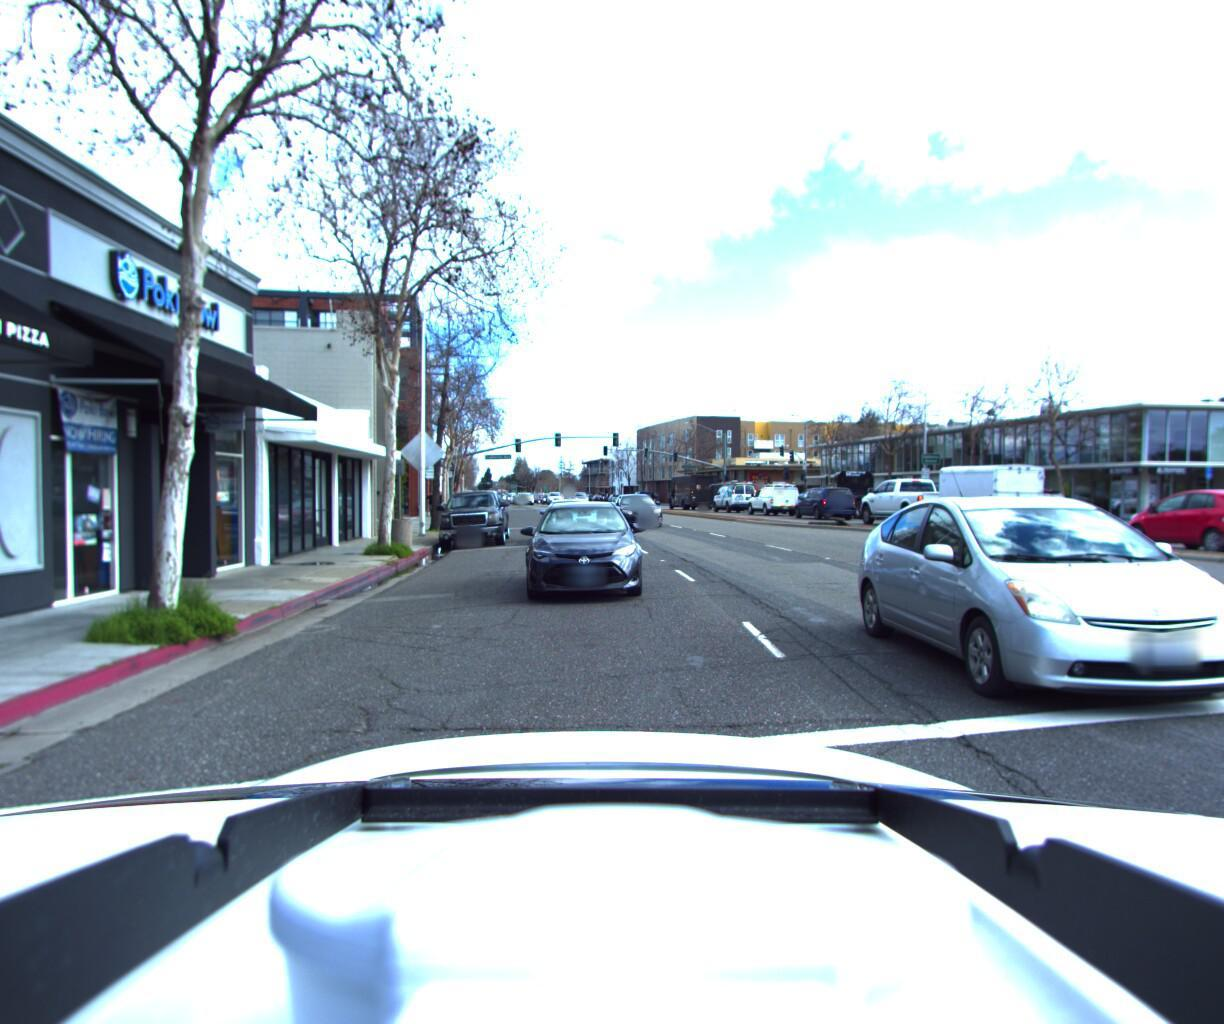car: (861, 489, 1224, 771), (518, 500, 642, 613), (1111, 489, 1224, 560), (850, 478, 969, 534), (976, 488, 1090, 534), (1129, 491, 1224, 545), (435, 490, 512, 554), (544, 499, 602, 552), (793, 488, 862, 525), (614, 494, 668, 532), (749, 484, 804, 520), (712, 484, 760, 515)
other_vehicle: (930, 464, 1048, 537)
truck: (810, 471, 919, 523), (666, 478, 723, 515)
